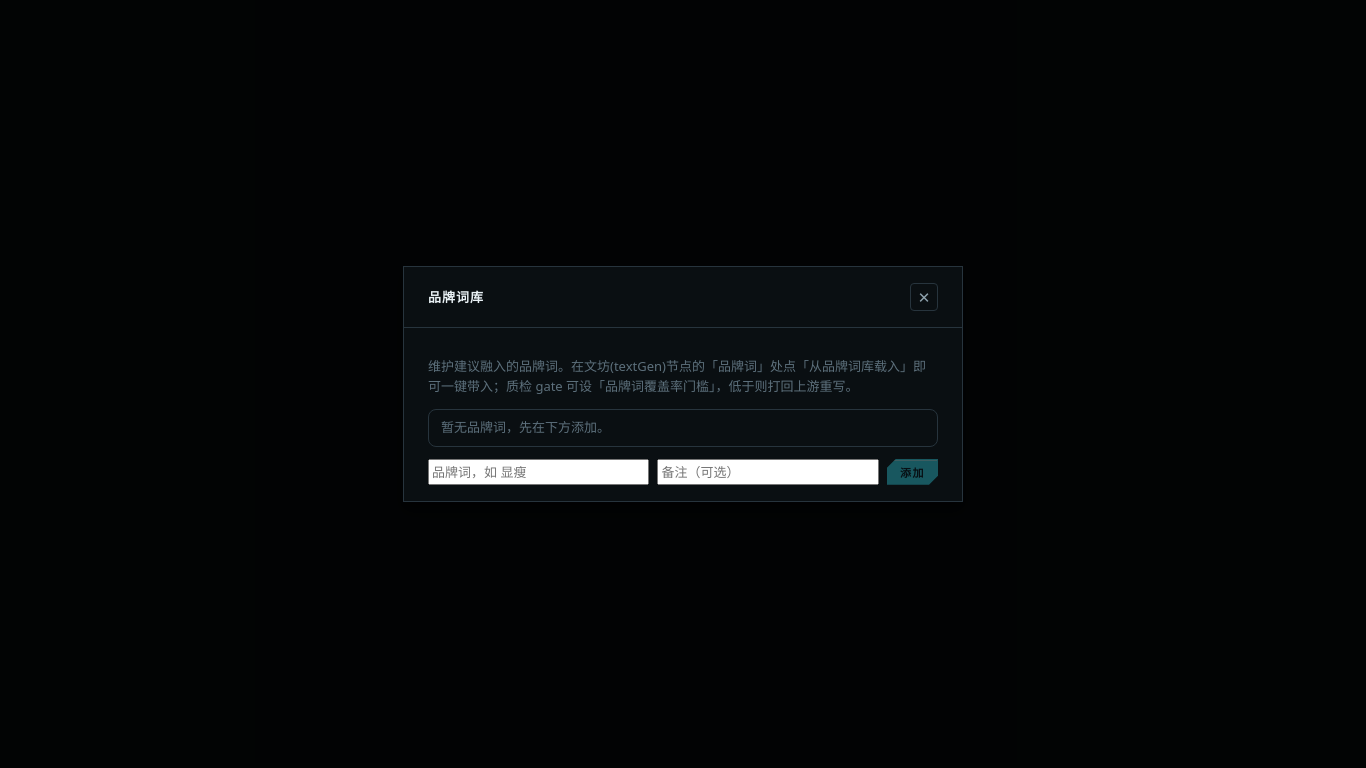
Test: BrandTermsModal › 添加品牌词 › 添加失败时错误信息有 error-text class
Step 1. Type "失败品牌词" into the field with placeholder "品牌词，如 显瘦" → [539, 472], box [428,459,650,485]
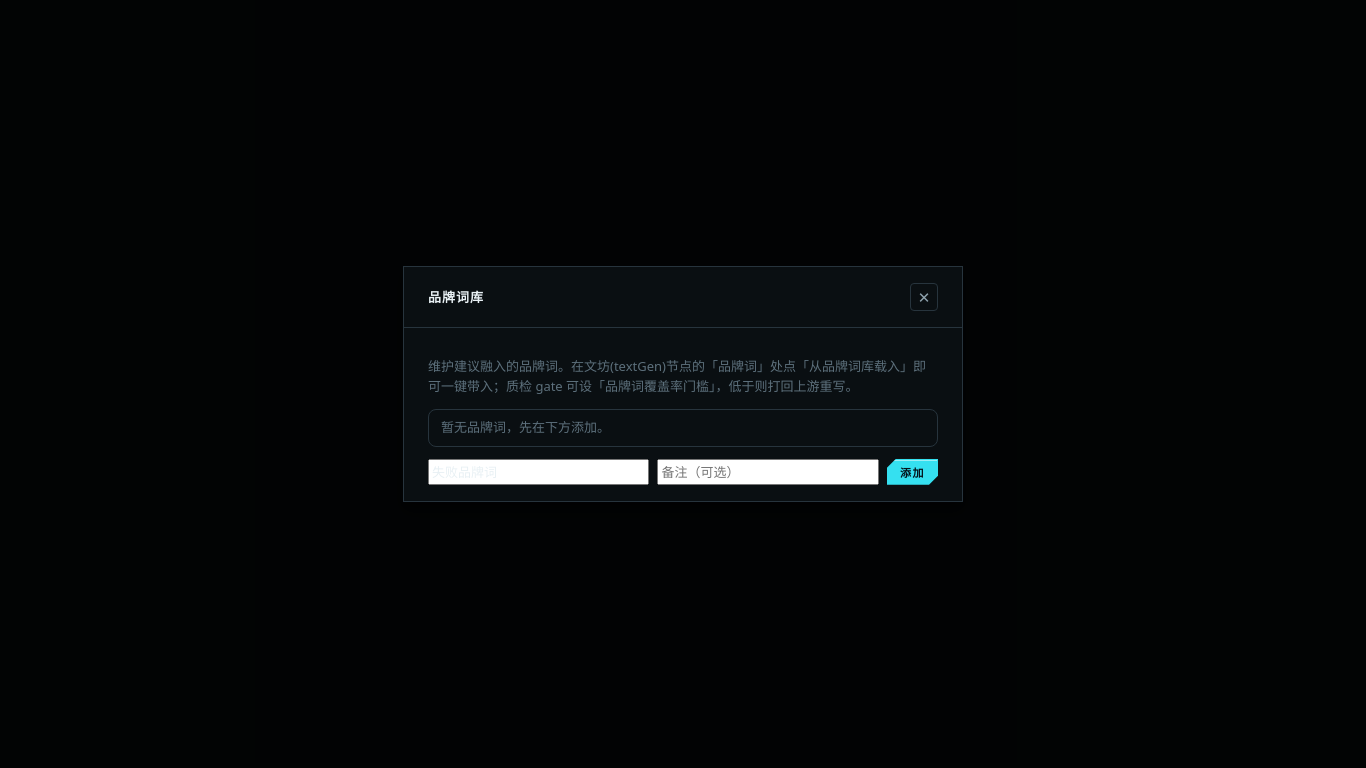
Step 2. Click the button "添加" → [912, 472], box [887,459,938,485]
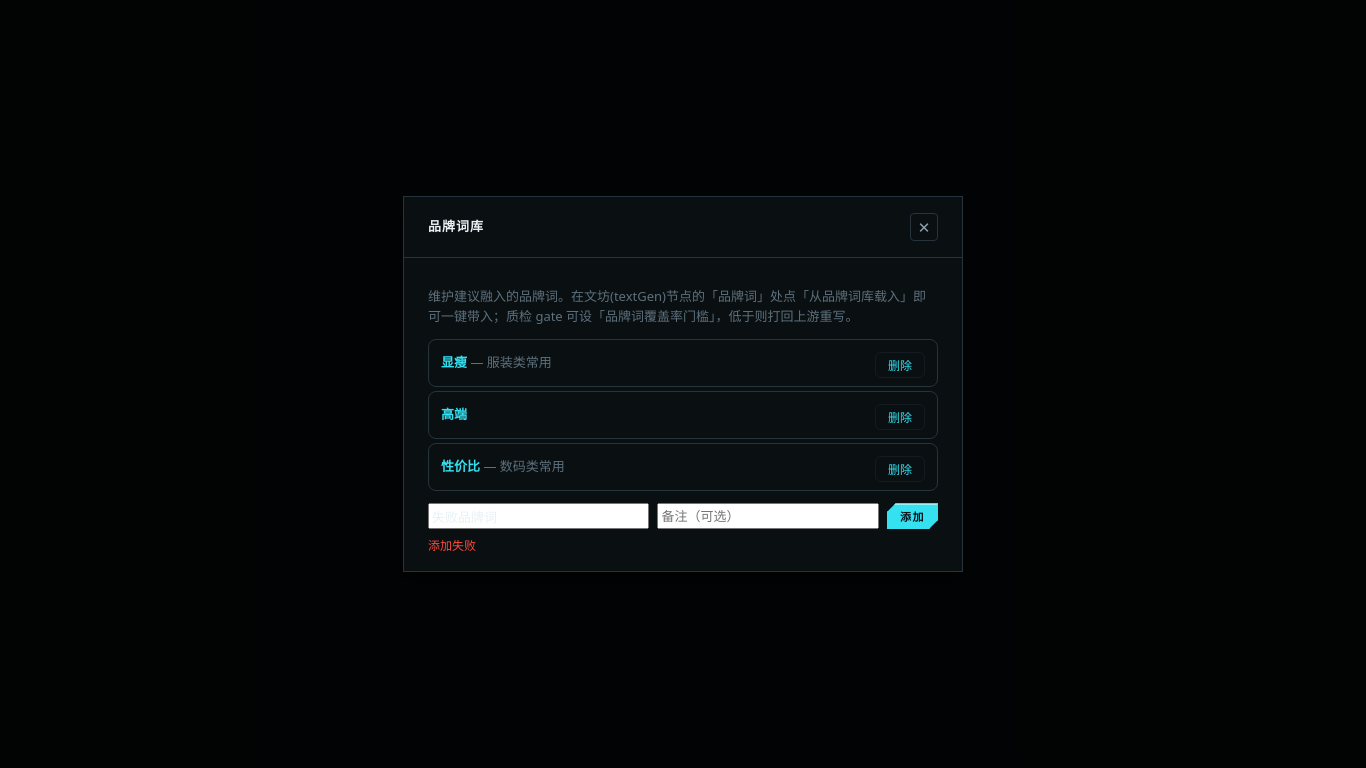
Check: the text "添加失败" is shown, box [428,537,476,554]
